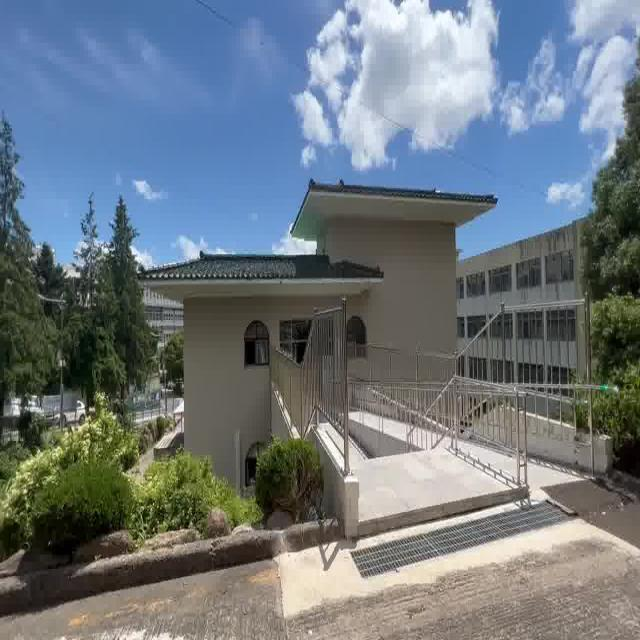building: (170, 180, 498, 433)
